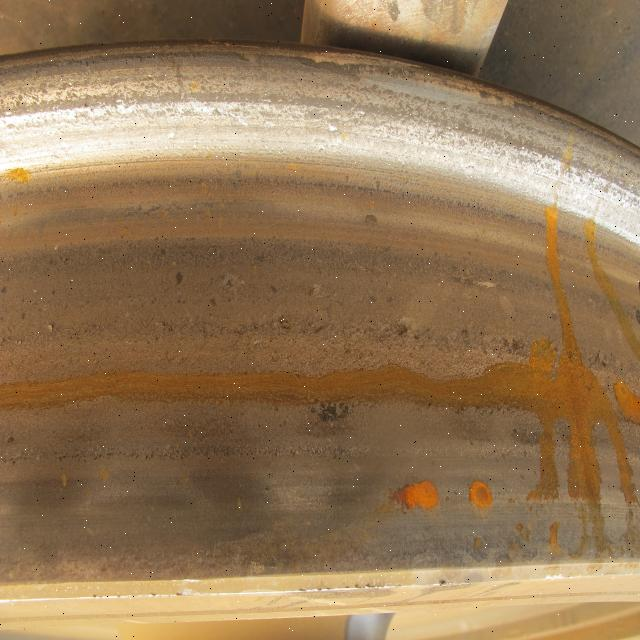Contact_Fatigue_Cracks: (243, 317, 329, 342), (362, 320, 424, 348), (450, 332, 518, 356), (158, 316, 228, 338), (279, 442, 353, 462)
